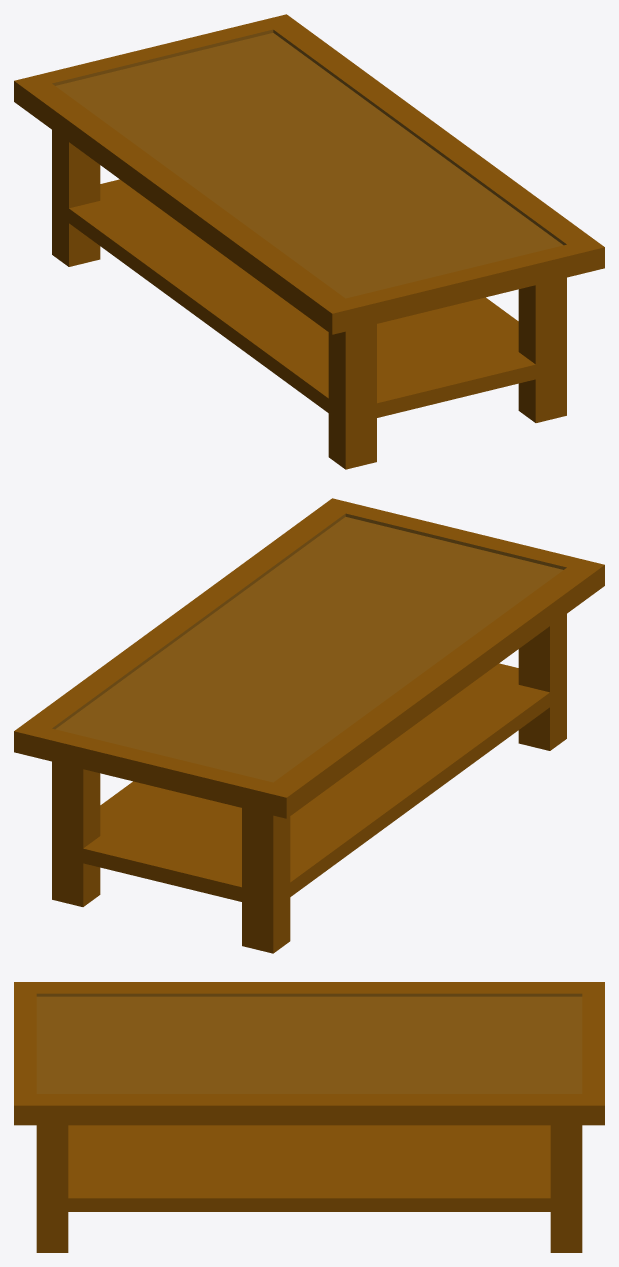
File: Table.fbx
3 views of the same model, one above another, from view 1: azimuth 30°, elevation 25°; view 2: azimuth 150°, elevation 25°; view 3: azimuth 270°, elevation 25° (orthographic). The views are drawn at different scales.
Visible parts, largest first — view 1: Table; view 2: Table; view 3: Table.
Part boxes in pixels (<box>): Table: <box>14,14,604,469</box>; Table: <box>14,498,604,953</box>; Table: <box>14,982,604,1252</box>.
Bounding box in the file's own units: 68.22 × 40.91 × 138.
